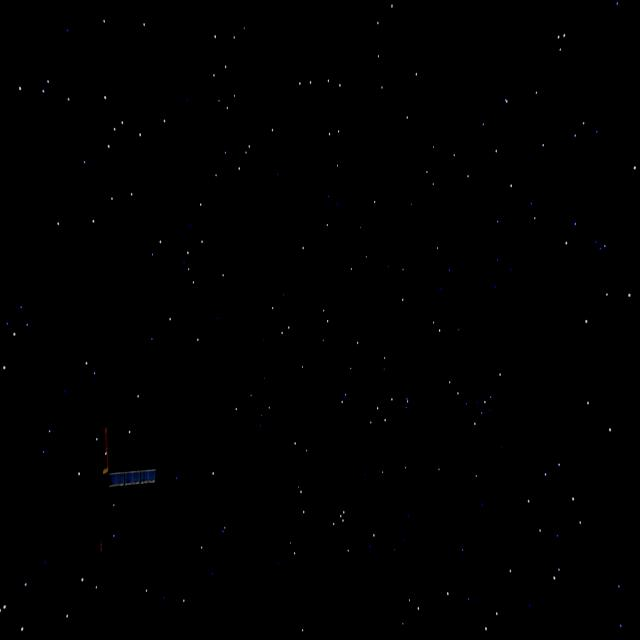satellite: (80, 419, 156, 569)
